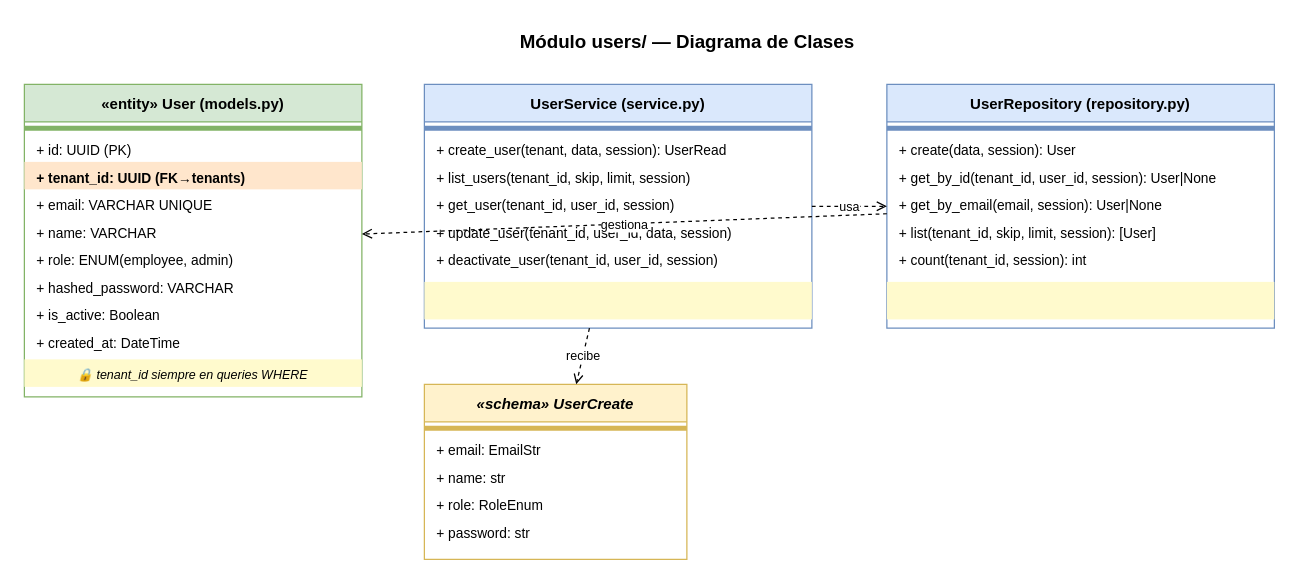
The diagram is 1298 pixels wide and 581 high, and some of its shapes have lost their labels. The shapes that lost their labels are listed below. From the top down, each one's centre as x and y in pixels, then its label:
the point at 617,300: ⚡ create_user() verifica límite de plan (Free≤2, Basic≤10)
the point at 1080,300: 🔒 WHERE tenant_id=:tenant_id en TODAS las queries
